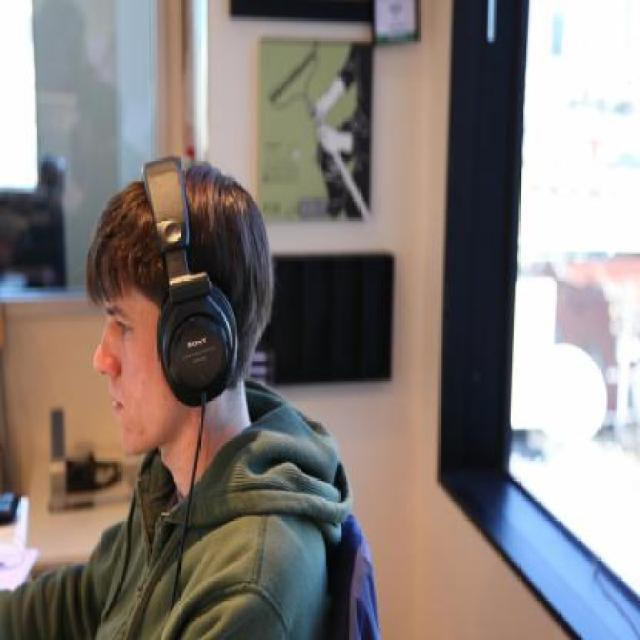earphone: (132, 133, 272, 417)
